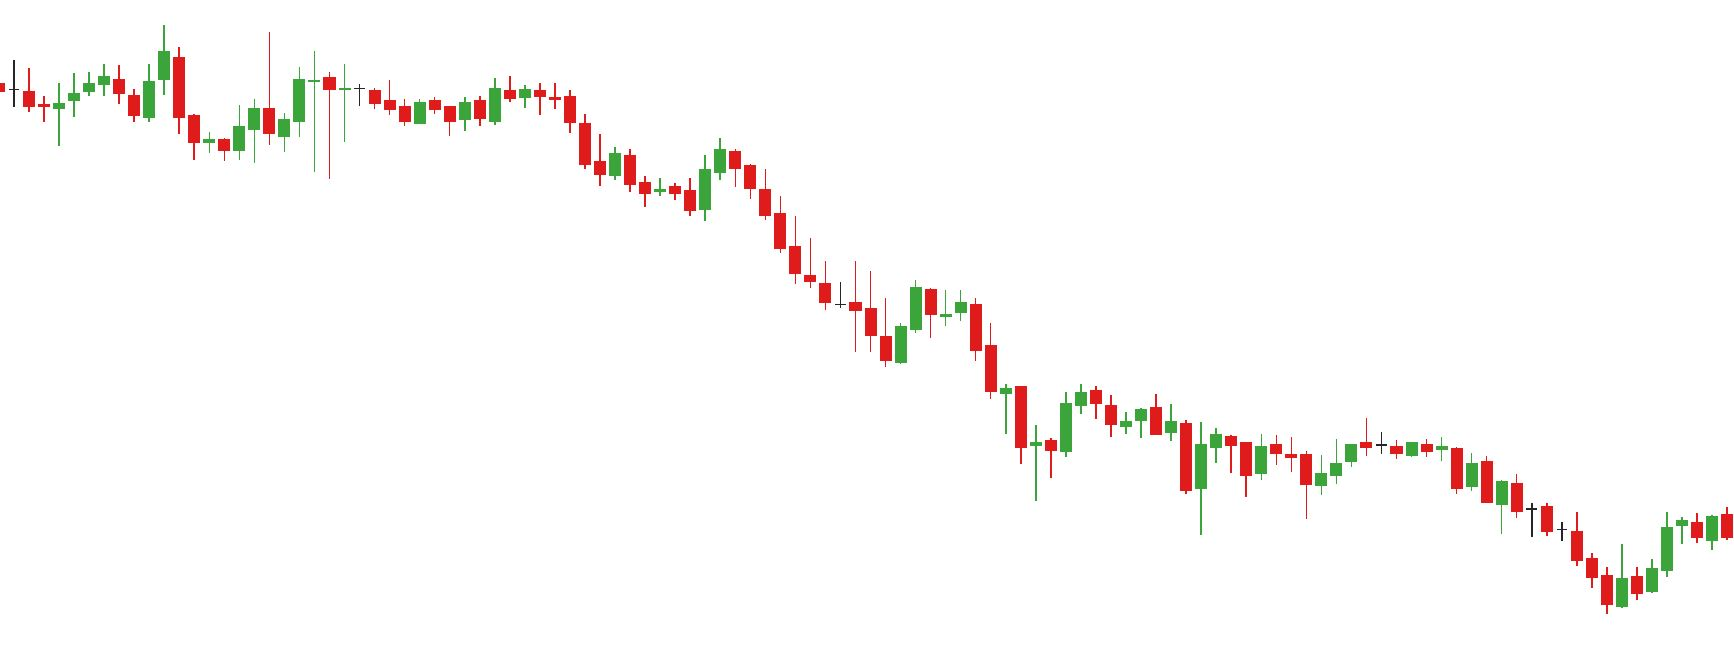sell: (1253, 413, 1373, 478)
